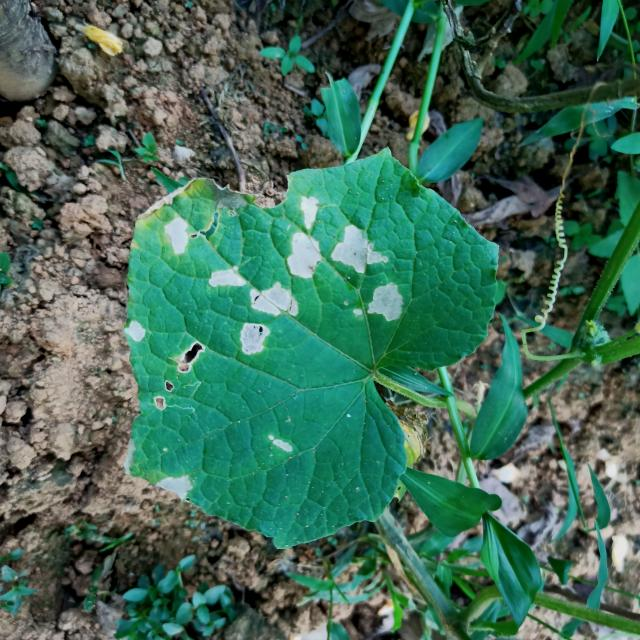disease_cucumber: (240, 280, 298, 357), (154, 342, 202, 413), (330, 224, 390, 276), (285, 196, 321, 280), (349, 282, 402, 324), (154, 474, 192, 501), (167, 215, 190, 256), (209, 264, 245, 290), (126, 319, 147, 344), (268, 434, 293, 454)
